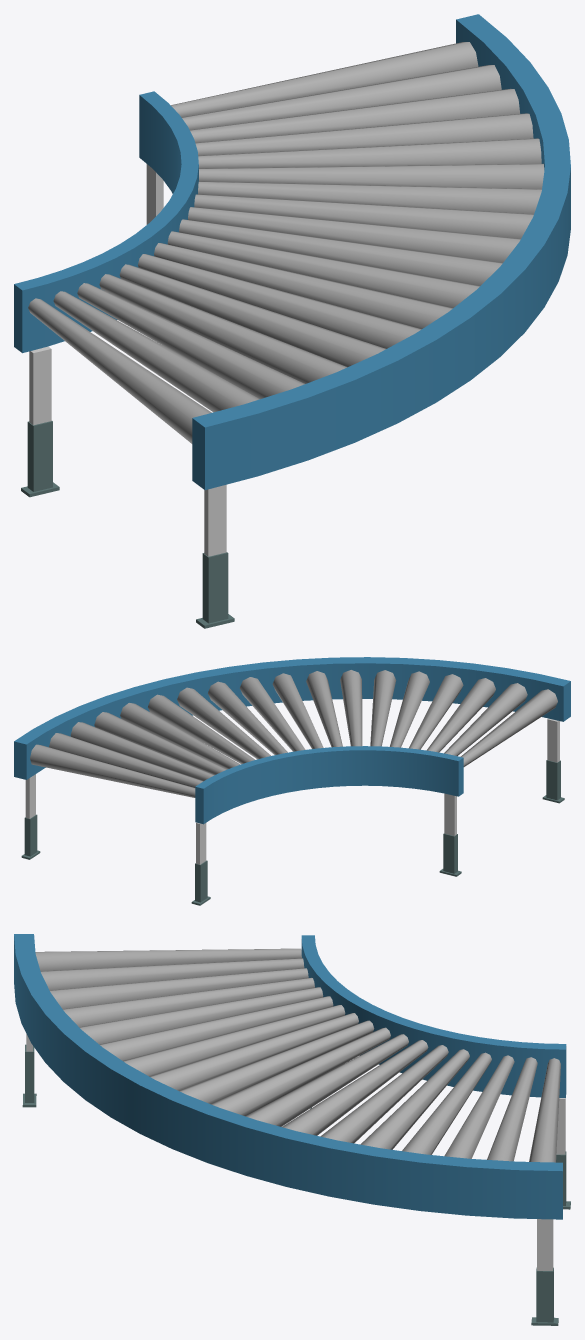
Rendered from conveyor2.glb.
The picture shows the model from 3 angles, top to bottom: view 1: azimuth 30°, elevation 25°; view 2: azimuth 150°, elevation 25°; view 3: azimuth 270°, elevation 25°; orthographic projection. The views are drawn at different scales.
Parts seen in each view (by area): view 1: m47, m27.019, m28.027, m29.025, m29.020; view 2: m47, m27.019, m28.027, m28.022, m29.025, m29.020; view 3: m47, m27.019, m28.022, m29.020, m28.027.
Part boxes in pixels (x1,y1,x2,y2): m47: (28,42,544,443); m27.019: (14,14,570,490); m28.027: (21,421,234,628); m29.025: (29,346,226,556); m29.020: (146,164,163,224); m47: (30,670,557,797); m27.019: (14,657,570,824); m28.027: (439,760,564,876); m28.022: (21,814,210,905); m29.025: (444,718,559,835); m29.020: (25,774,206,864); m47: (35,948,560,1162); m27.019: (14,934,566,1219); m28.022: (531,1151,570,1325); m29.020: (537,1098,565,1270); m28.027: (22,1044,311,1108).
Size of the model in its own units: 20.98 by 6.6 by 20.82.
